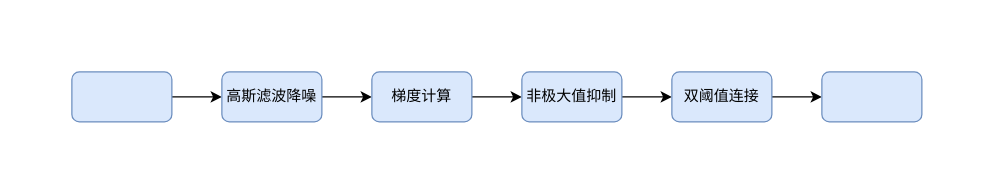
Image size: 993x193. Some labels were removed from this diagram. Here are the shapes that lost their labels. From the top down, the centre of each, then its label:
point 121,96: 输入灰度图
point 871,96: 边缘图
